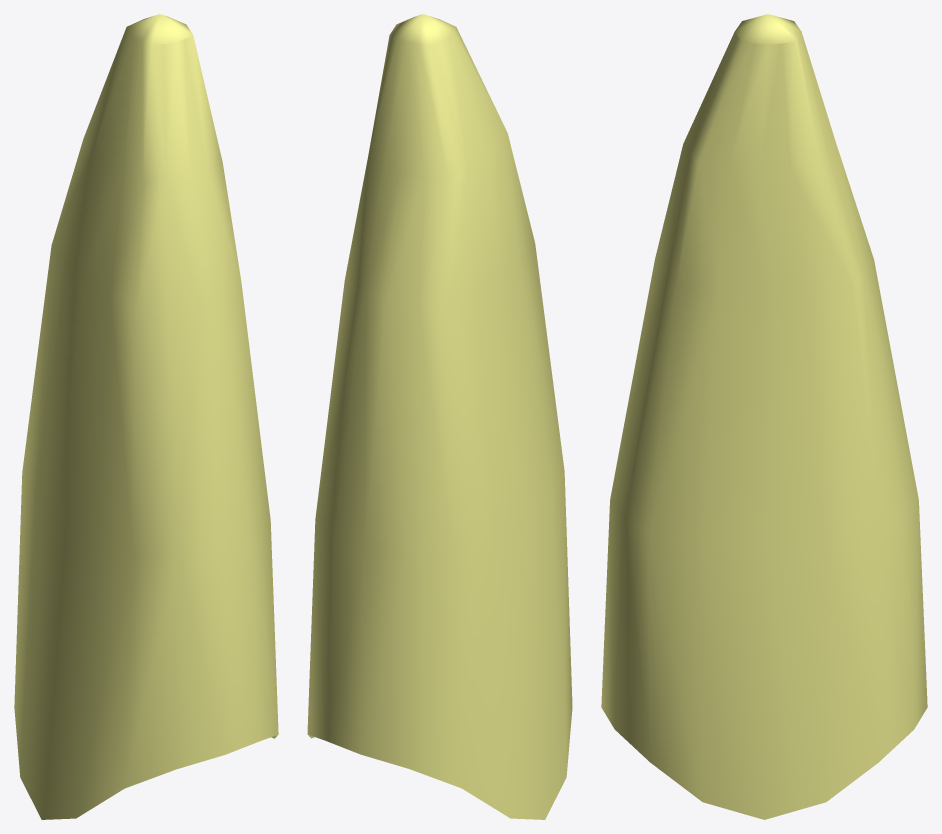
Rendered from D23R_Raiz.obj.
3 renders of one model, left to right at view 1: azimuth 30°, elevation 25°; view 2: azimuth 150°, elevation 25°; view 3: azimuth 270°, elevation 25°, orthographic. The views are drawn at different scales.
Parts seen in each view (by area): view 1: D23R_Raiz; view 2: D23R_Raiz; view 3: D23R_Raiz.
Boxes of the visible parts, box(x1,y1,x2,y2) form: D23R_Raiz: box(14, 14, 278, 819); D23R_Raiz: box(307, 14, 572, 819); D23R_Raiz: box(601, 14, 927, 819).
Size of the model in its own units: 5.51 by 19.5 by 7.19.
